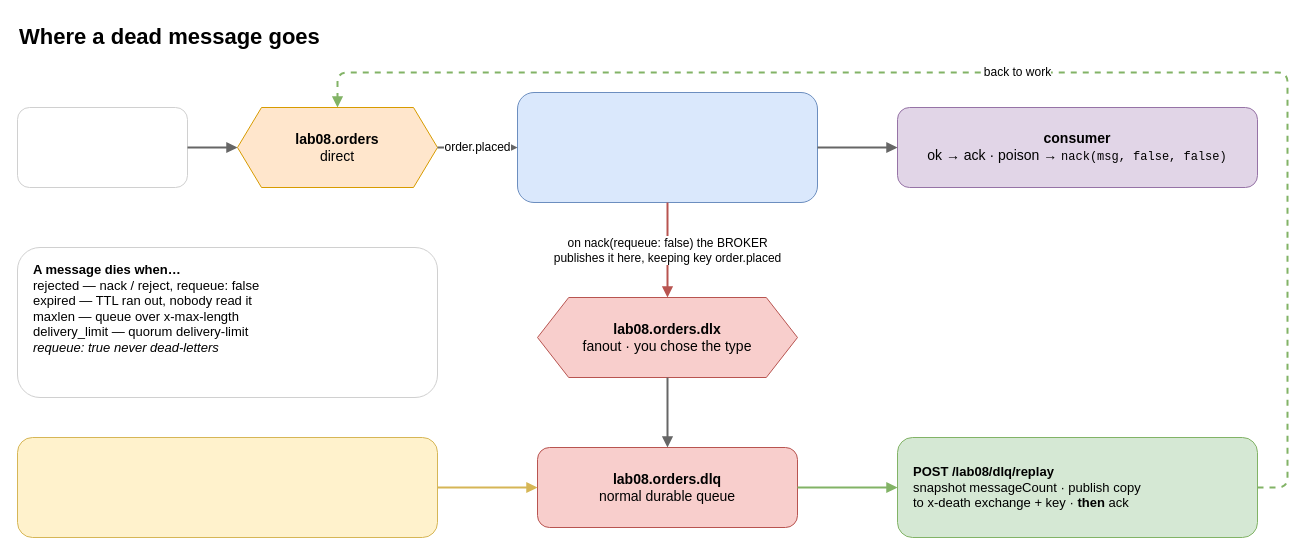
Image size: 1314x555. Some labels were removed from this diagram. The shapes that lost their labels are listed below. From the top down, each one's centre as x and y in pixels, then its label:
the point at 102,147: POST /lab08/orders
the point at 667,147: lab08.orders.work x-dead-letter-exchange: lab08.orders.dlx
the point at 227,487: GET /lab08/dlq — peek own channel · get ×N · nack(requeue: true) removes nothing
